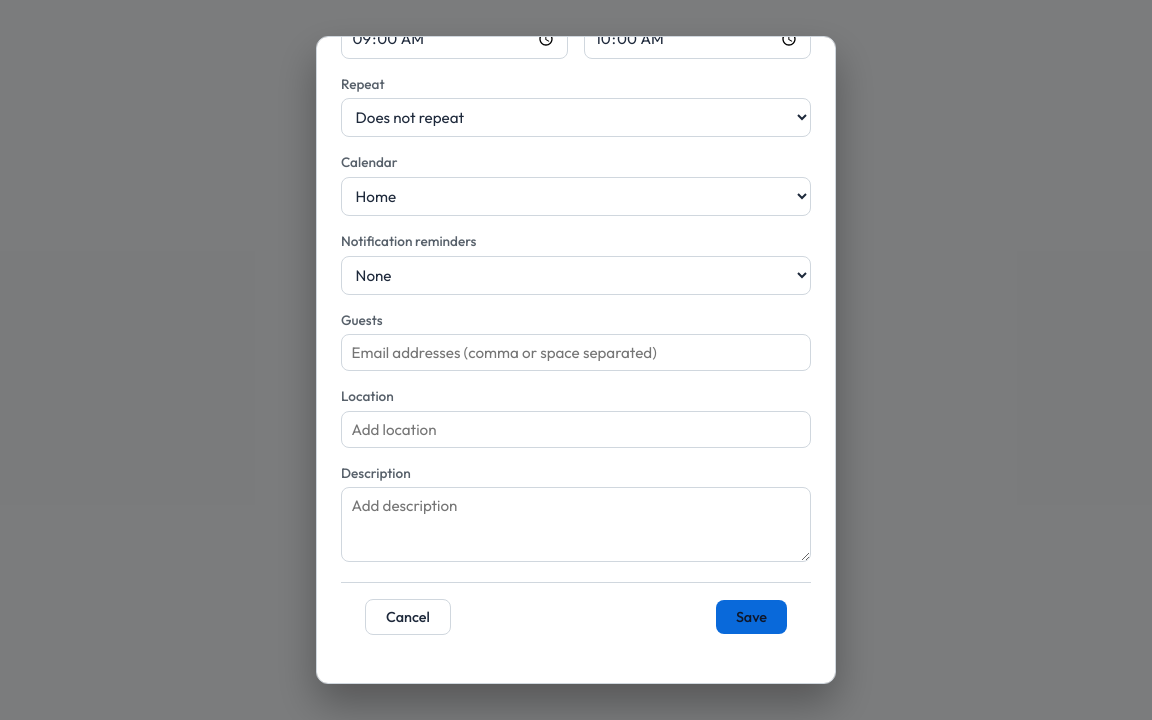
Test: AddEventModal › shows API error in banner when createCalendarEvent rejects
The image size is (1152, 720).
(page scrolled)
Click the button "Save": (751, 617) x1=716 y1=600 x2=787 y2=634
(page scrolled)
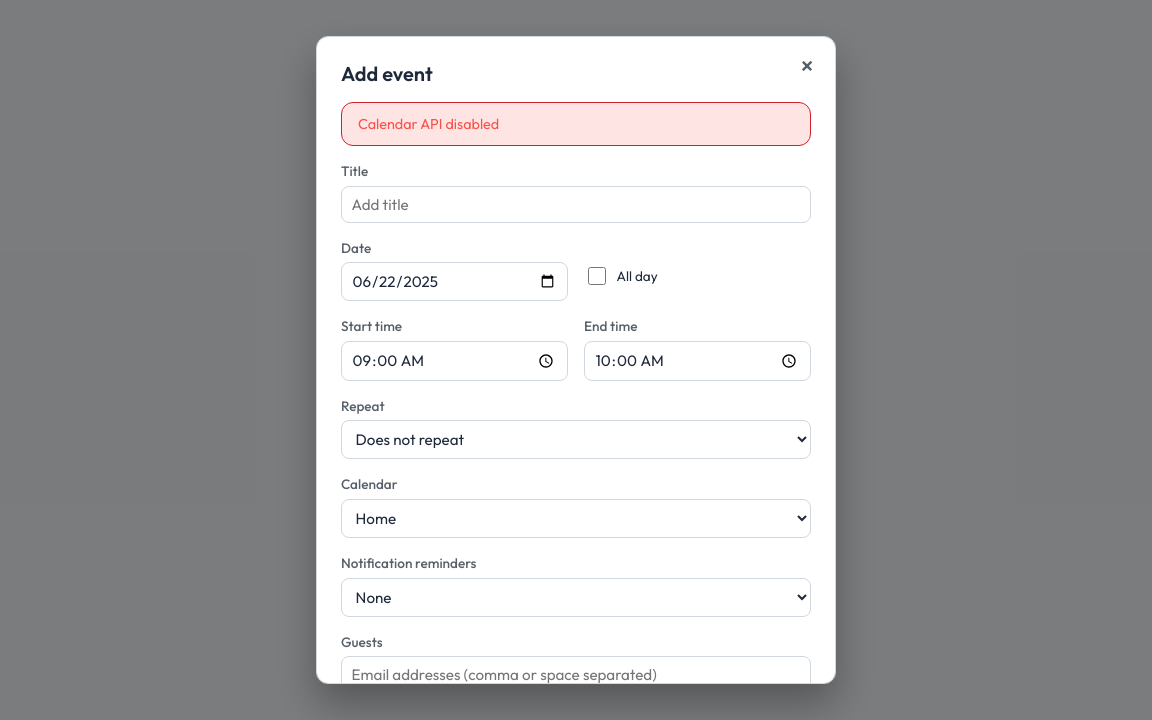
Now the text "Calendar API disabled" is shown, box x1=341 y1=102 x2=811 y2=146
